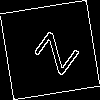Z: (25, 25, 80, 76)
